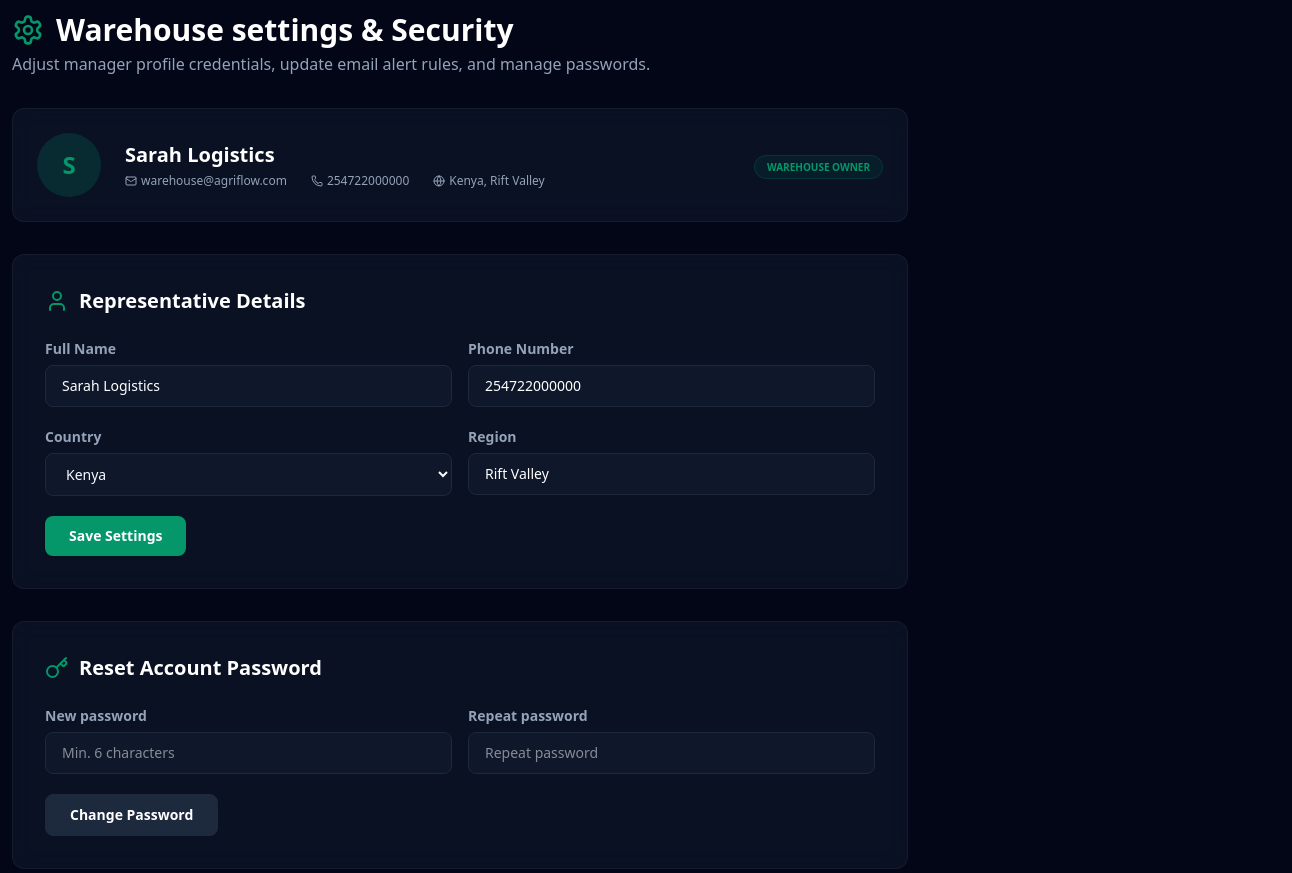
Scenario: WarehouseSettings Page Component › handles profile save error path
Expected: the field showing "Sarah Logistics" below "Full Name" is shown, [45,365,452,407]
Click the button "Save Settings" at (116, 536), box [45,516,186,556]
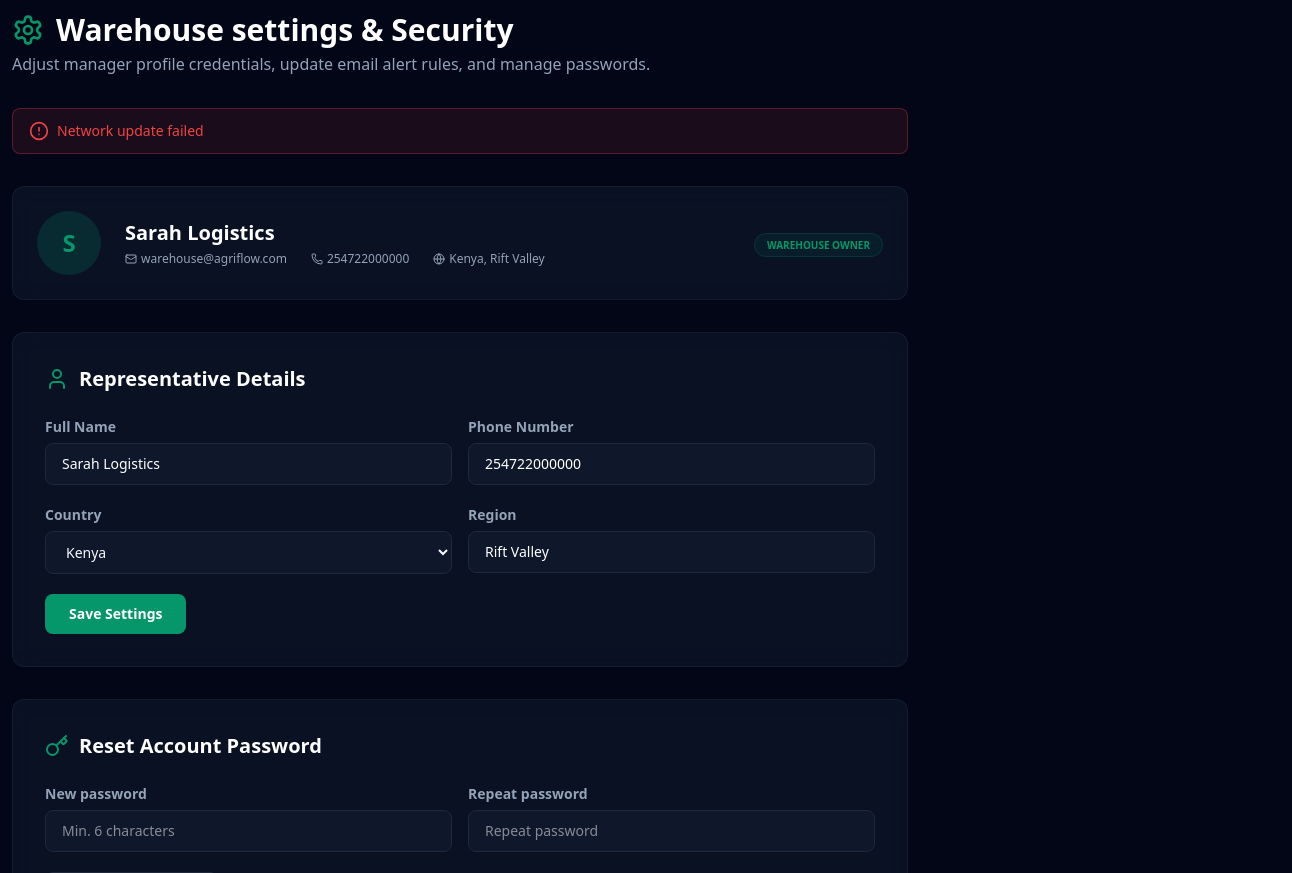
Now the text "Network update failed" is shown, box [57,121,204,141]
